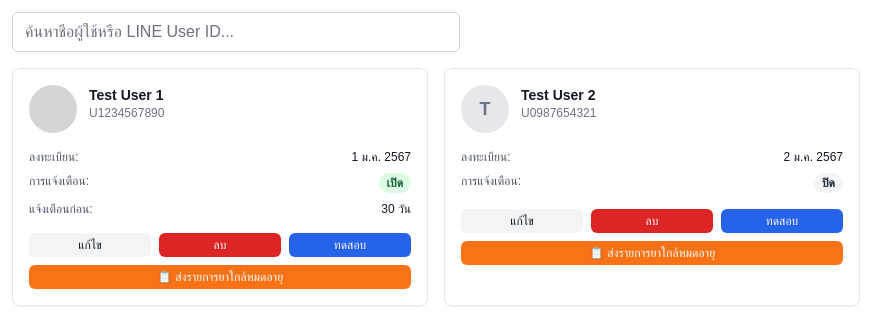
Test: LineUserList › Search Functionality (Requirement 3.4) › should show empty state when no results found
This screenshot has width=877, height=323.
Type "NonExistentUser" into the field with placeholder "ค้นหาชื่อผู้ใช้หรือ LINE User ID..." at (236, 32), box x1=12 y1=12 x2=460 y2=52
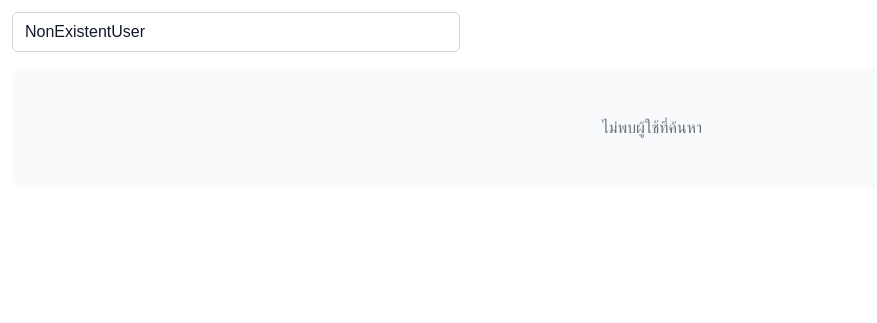
Expected: the text "ไม่พบผู้ใช้ที่ค้นหา" is shown, x1=602 y1=119 x2=702 y2=136
